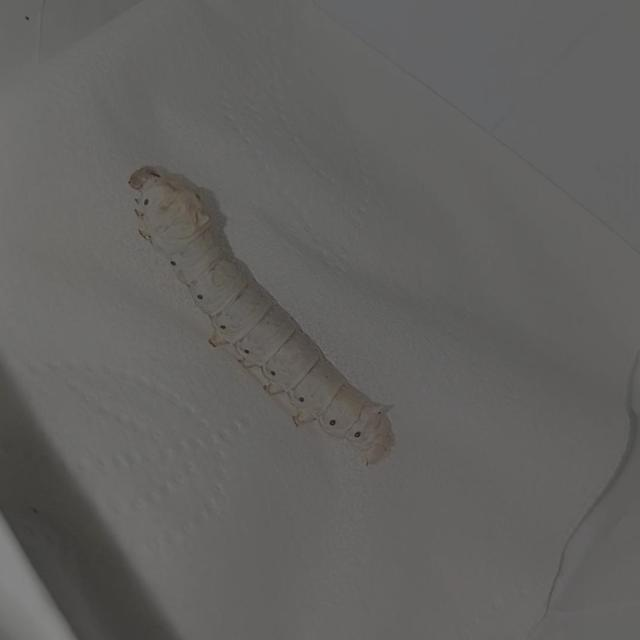Healthy: (110, 157, 409, 480)
